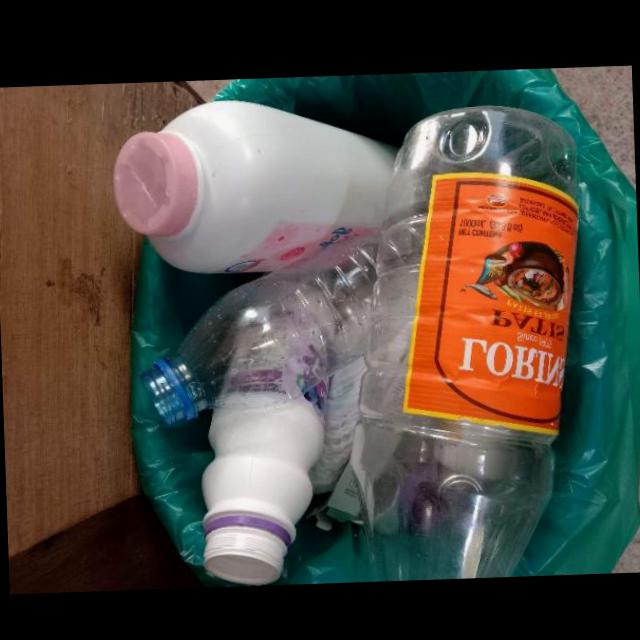chai_nhua: (351, 106, 580, 581), (113, 101, 396, 274), (201, 280, 342, 584)
chai_nhua_pet: (139, 231, 379, 429)
